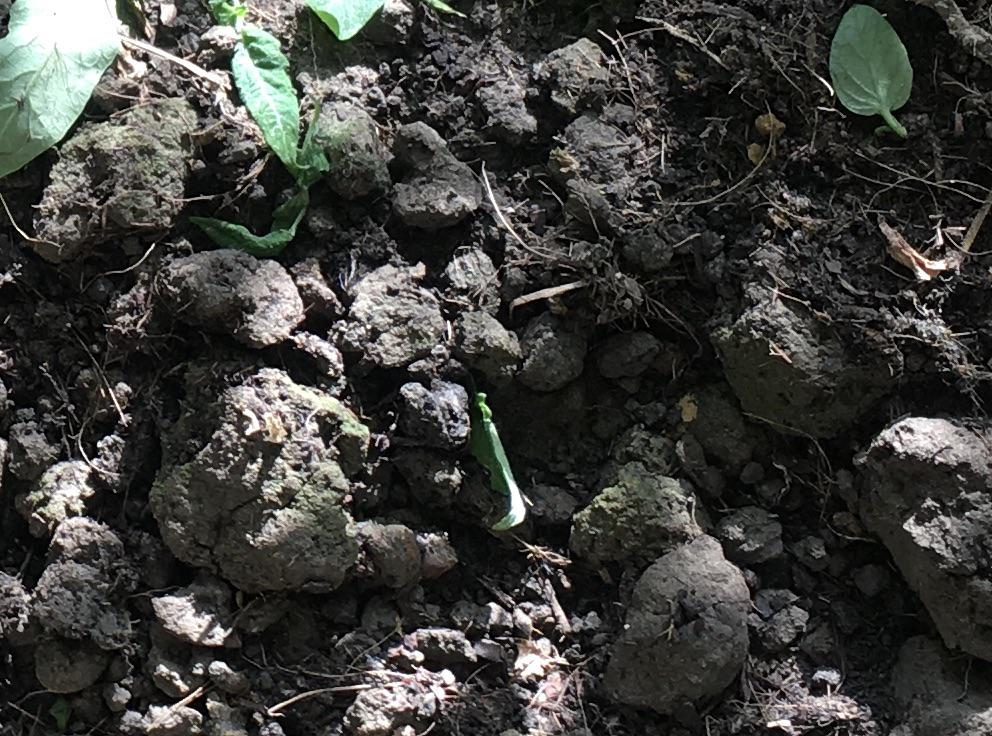block: (159, 354, 373, 600), (843, 405, 992, 669), (604, 535, 749, 719)
